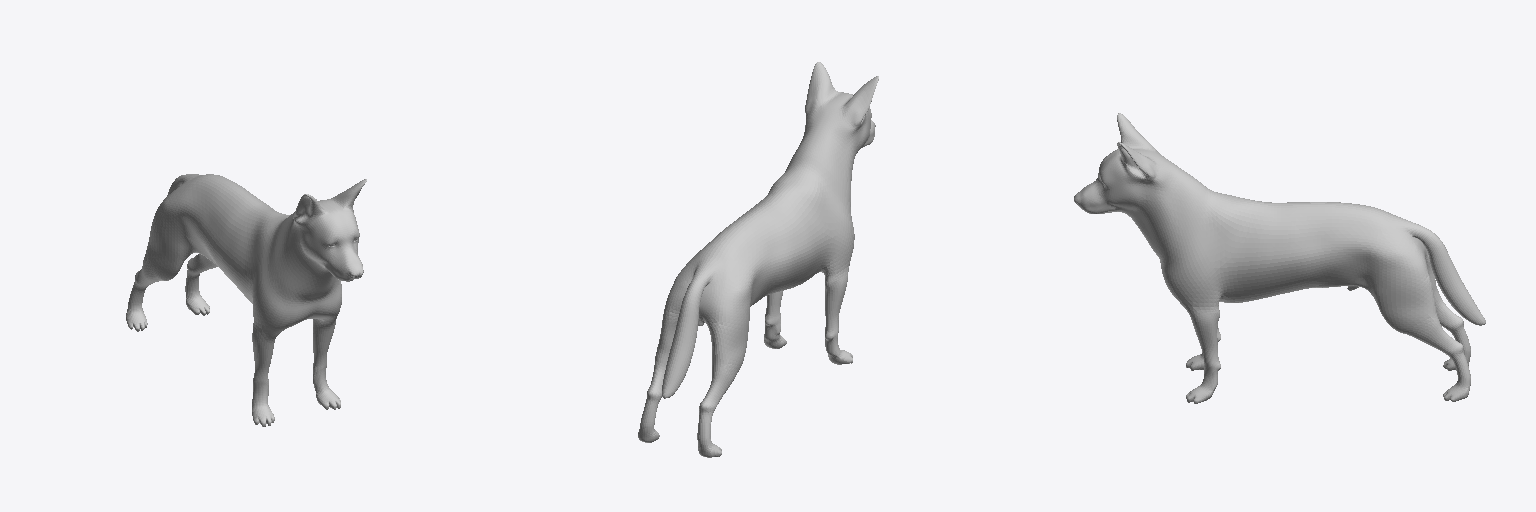
The model's file is dog.obj.
3 renders of one model, left to right at view 1: azimuth 30°, elevation 25°; view 2: azimuth 150°, elevation 25°; view 3: azimuth 270°, elevation 25°, orthographic.
Parts seen in each view (by area): view 1: 13463_Australian_Cattle_Dog_v3; view 2: 13463_Australian_Cattle_Dog_v3; view 3: 13463_Australian_Cattle_Dog_v3.
Part boxes in pixels (bbox=[...]): 13463_Australian_Cattle_Dog_v3: bbox=[126, 174, 366, 426]; 13463_Australian_Cattle_Dog_v3: bbox=[638, 62, 878, 457]; 13463_Australian_Cattle_Dog_v3: bbox=[1074, 113, 1485, 403].
Size of the model in its own units: 9.36 by 26.53 by 38.67.